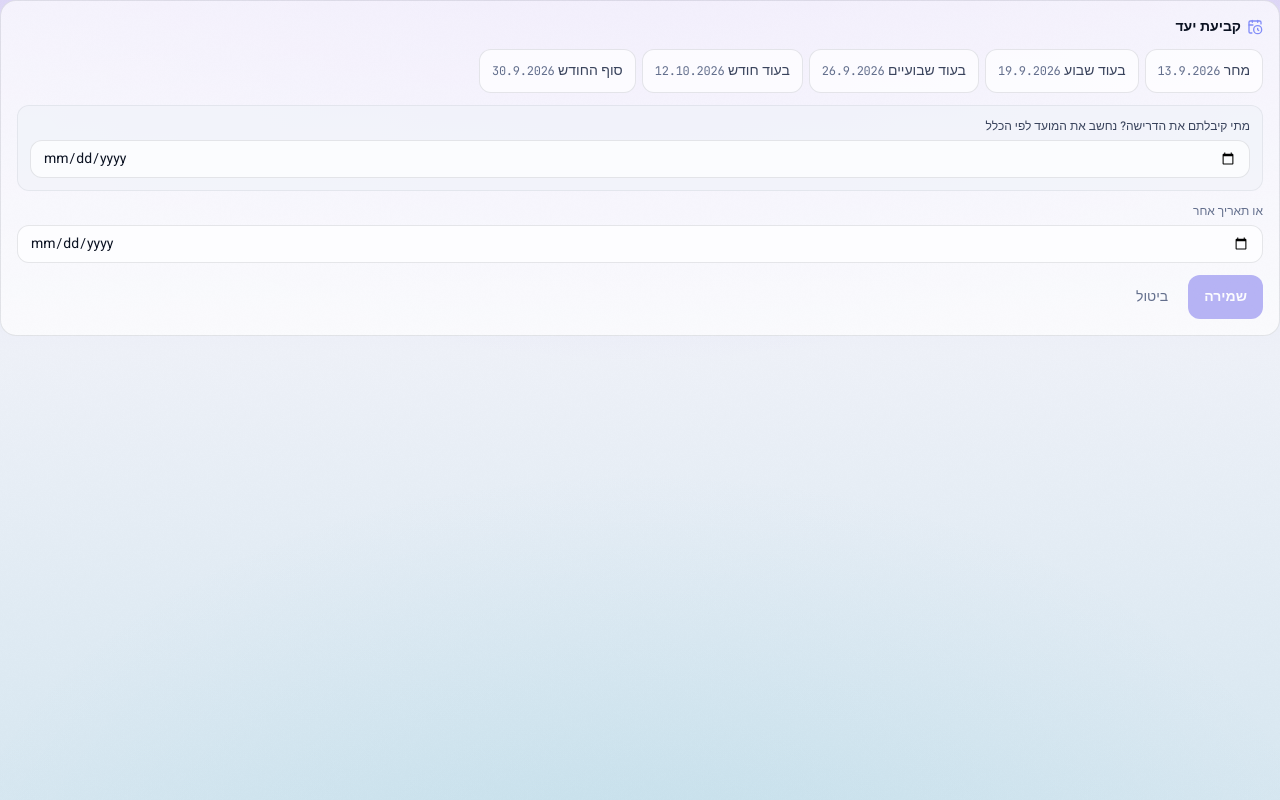
Test: the deadline that starts from a letter we cannot see › computes the window from the demand date for הצהרת הון
Type "2026-09-12" into the date field labelled "מתי קיבלתם את הדרישה? נחשב את המועד לפי הכלל" at (640, 159), box top-left (30, 140), bottom-right (1250, 178)
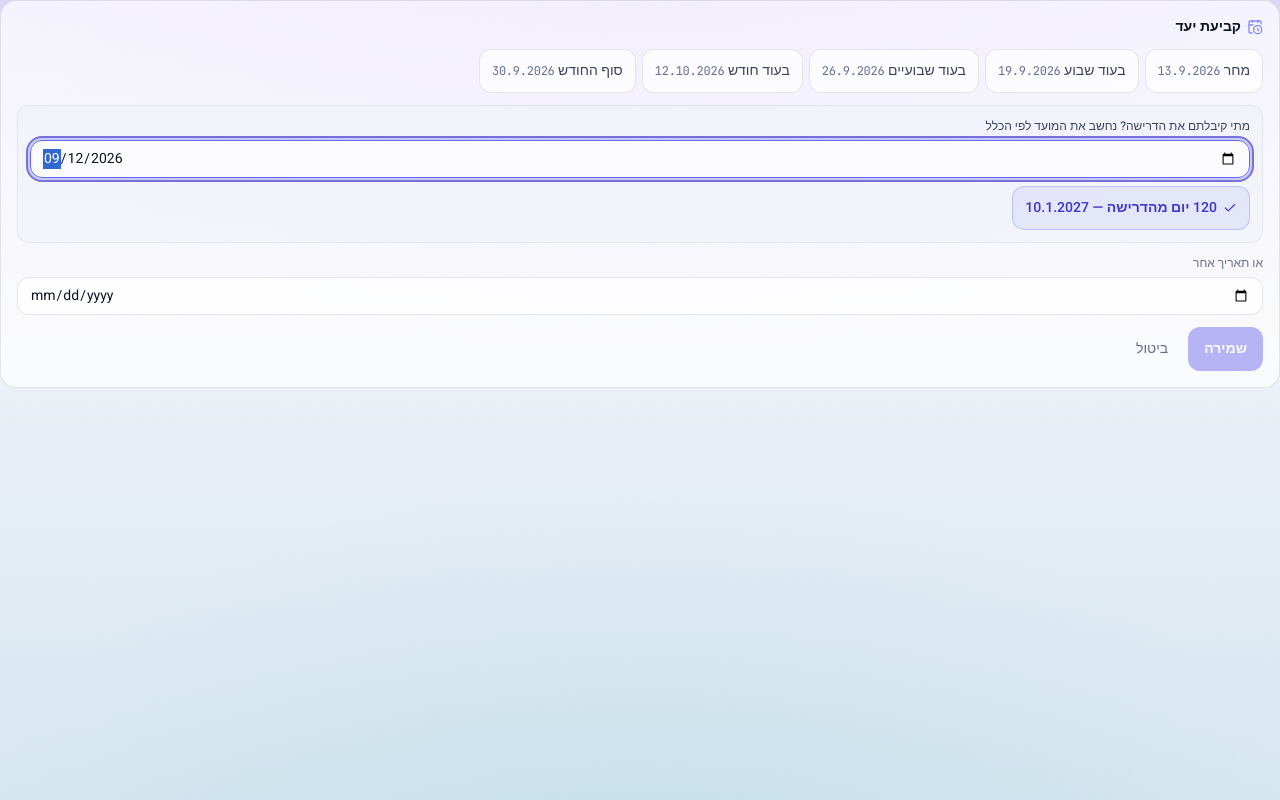
Check: the button "120 יום מהדרישה — 10.1.2027" is shown, box top-left (1012, 186), bottom-right (1250, 230)
